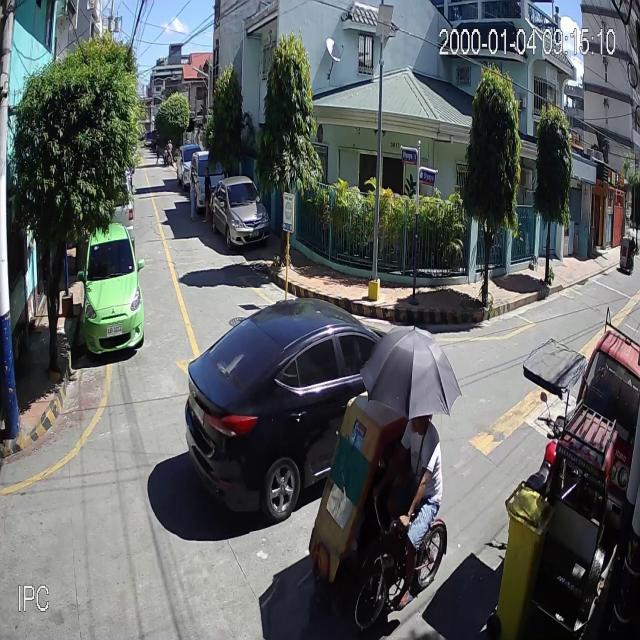standing: (188, 166, 200, 221), (202, 166, 213, 223)
walking: (154, 142, 160, 164)
